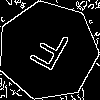F: (23, 25, 73, 81)
